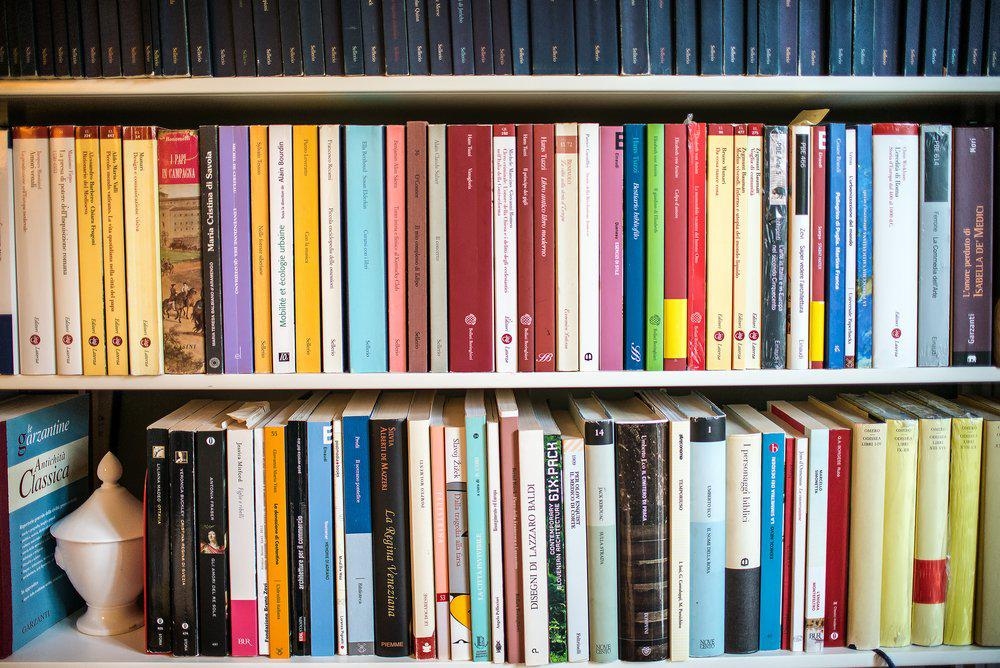book: (169, 141, 204, 371), (456, 136, 482, 370), (18, 137, 43, 375), (885, 133, 911, 361), (351, 136, 374, 366), (344, 431, 368, 650), (380, 432, 403, 654), (967, 142, 988, 362), (131, 132, 149, 372), (605, 136, 624, 361), (858, 128, 875, 368), (959, 423, 976, 644), (929, 427, 946, 647), (410, 125, 425, 371), (649, 133, 664, 366), (56, 136, 71, 369), (230, 135, 245, 367), (534, 134, 549, 360), (322, 133, 336, 371), (302, 134, 316, 367), (582, 138, 596, 362), (57, 137, 69, 370), (106, 136, 117, 372), (434, 137, 444, 373)
